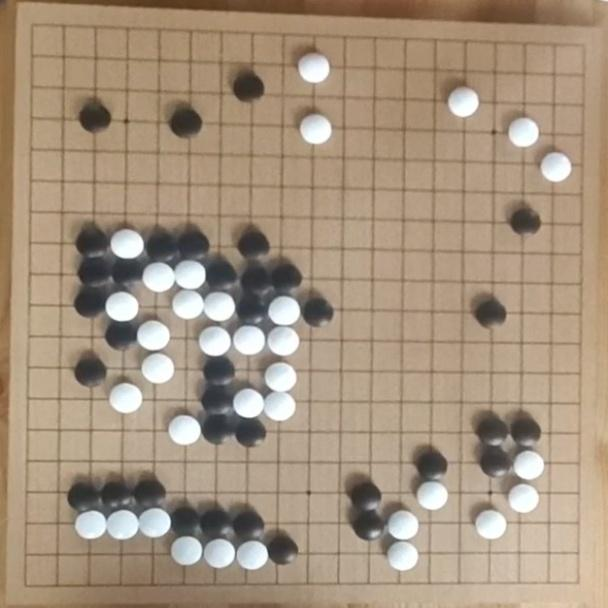corners: (8, 563, 49, 603), (569, 24, 603, 66), (16, 5, 56, 40), (560, 560, 591, 598)
